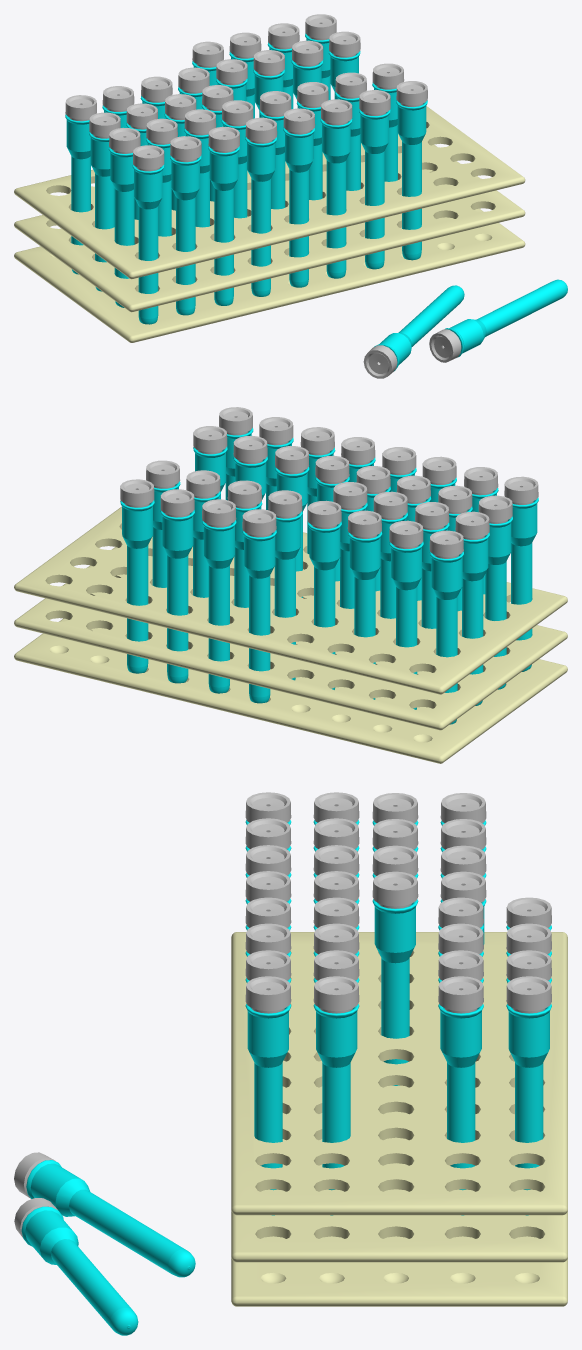
The model's file is shtativ kolba.dae.
3 renders of one model, top to bottom at view 1: azimuth 30°, elevation 25°; view 2: azimuth 150°, elevation 25°; view 3: azimuth 270°, elevation 25°, orthographic. The views are drawn at different scales.
Visible parts, largest first — view 1: ChamferBox001, Line040, Line022, Line044, Line026, Line038, Line024, Line042, Line028, Line072, Line036, Line019 (+49 smaller); view 2: ChamferBox001, Line064, Line066, Line068, Line062, Line019, Line014, Line015, Line018, Line022, Line005, Line054 (+46 smaller); view 3: ChamferBox001, Line070, Line072, Line012, Line060, Line062, Line046, Line044, Line059, Line061, Line043, Line045 (+29 smaller).
Boxes of the visible parts, x1,y1,x2,y2 form: ChamferBox001: (14,106,525,342); Line040: (320,118,352,278); Line022: (132,164,164,324); Line044: (396,100,427,260); Line026: (208,146,239,305); Line038: (283,127,314,287); Line024: (170,155,201,315); Line042: (359,109,390,269); Line028: (245,137,276,296); Line072: (445,279,567,357); Line036: (108,147,134,307); Line019: (65,114,90,274); ChamferBox001: (14,506,567,763); Line064: (160,510,194,683); Line066: (202,520,236,693); Line068: (242,530,276,703); Line062: (120,500,154,673); Line019: (429,551,463,724); Line014: (307,521,341,689); Line015: (348,531,382,699); Line018: (389,541,423,709); Line022: (511,497,538,671); Line005: (462,532,489,705); Line054: (274,511,302,680); ChamferBox001: (231,932,567,1306); Line070: (26,1160,195,1277); Line072: (21,1206,138,1335); Line012: (372,899,418,1085); Line060: (438,1004,483,1215); Line062: (506,1004,551,1215); Line046: (313,1004,359,1215); Line044: (245,1004,291,1215); Line059: (438,976,483,1013); Line061: (506,976,551,1013); Line043: (245,976,291,1013); Line045: (313,976,359,1013).
Bounding box in the file's own units: 50.42 × 24.53 × 42.43.
